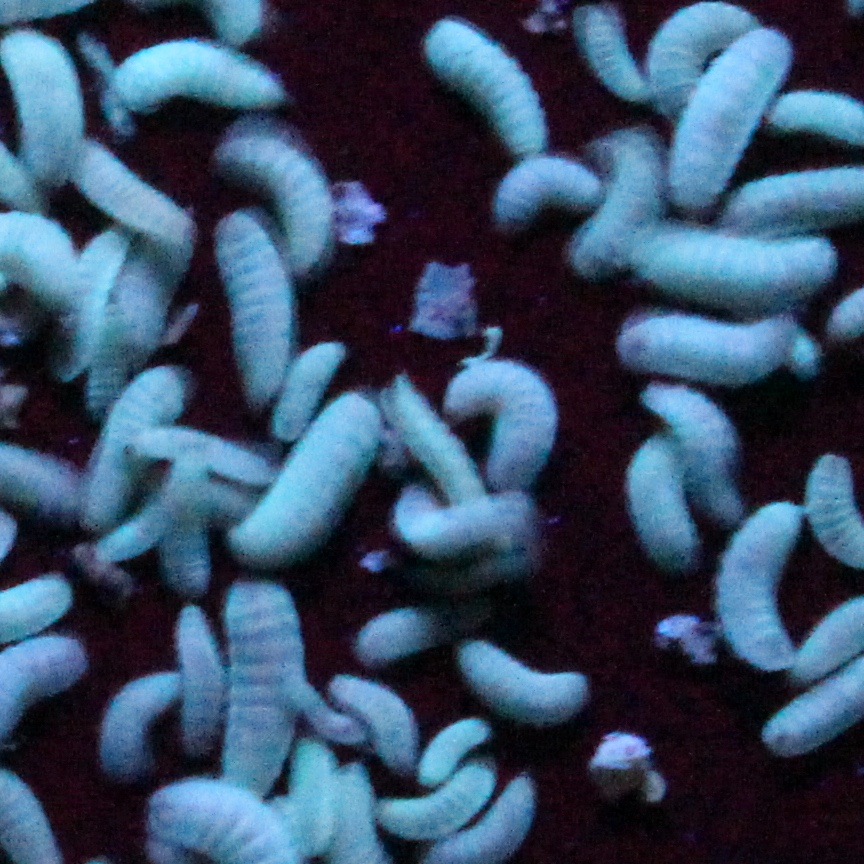larve: (252, 419, 368, 554), (681, 55, 773, 203), (239, 133, 339, 255), (229, 599, 290, 783), (456, 28, 542, 152), (474, 644, 596, 731), (649, 228, 815, 291), (659, 377, 744, 499), (464, 360, 559, 469), (125, 47, 281, 113), (225, 219, 284, 389), (651, 3, 739, 111), (90, 152, 203, 235), (96, 378, 158, 527), (394, 491, 545, 552), (54, 242, 123, 374), (729, 506, 786, 664), (386, 389, 476, 489), (107, 256, 168, 401), (96, 676, 180, 778), (586, 147, 651, 267), (622, 318, 783, 364), (17, 38, 73, 169), (178, 619, 225, 762), (284, 342, 352, 432), (642, 450, 695, 560), (360, 685, 421, 776), (390, 778, 503, 823), (364, 609, 480, 650), (150, 434, 262, 474), (495, 167, 590, 213), (178, 464, 209, 589), (294, 752, 325, 864), (595, 13, 637, 94), (107, 505, 162, 560), (300, 685, 354, 736), (427, 731, 472, 778)
